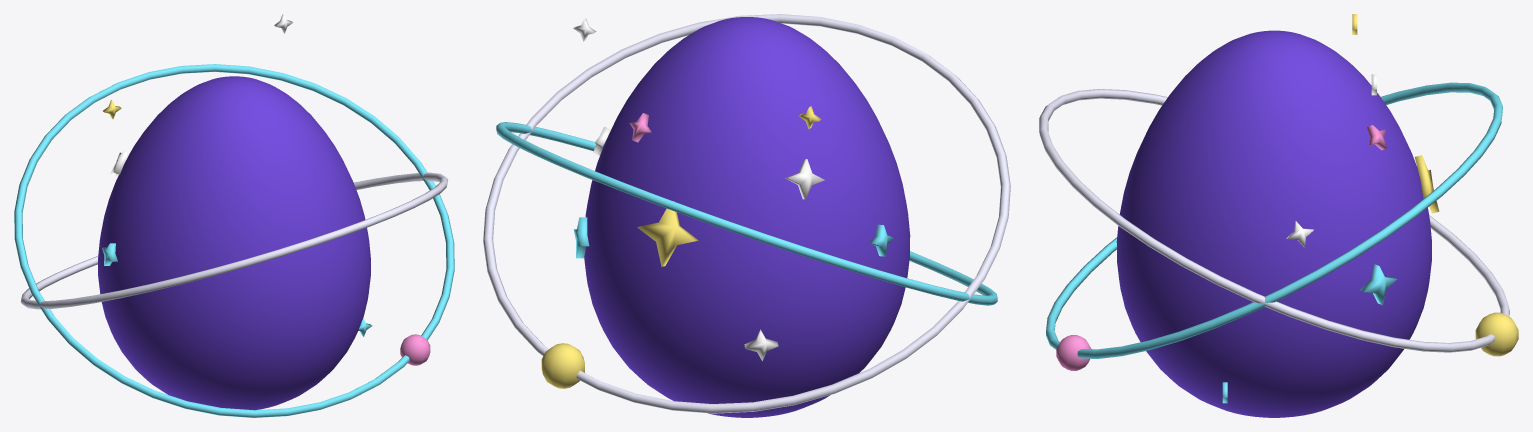
Rendered from egg_galaxy.fbx.
3 views of the same model, side by side, from view 1: azimuth 30°, elevation 25°; view 2: azimuth 150°, elevation 25°; view 3: azimuth 270°, elevation 25° (orthographic). The views are drawn at different scales.
Visible parts, largest first — view 1: egg_galaxy; view 2: egg_galaxy; view 3: egg_galaxy.
Part boxes in pixels (left/top/right/bottom): egg_galaxy: left=14, top=14, right=454, bottom=417; egg_galaxy: left=483, top=14, right=1010, bottom=417; egg_galaxy: left=1039, top=14, right=1518, bottom=417.
Size of the model in its own units: 7.89 by 6.48 by 7.39.
1 material, 1 textured.
